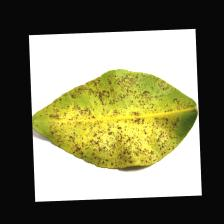canker: (73, 99, 163, 155)
